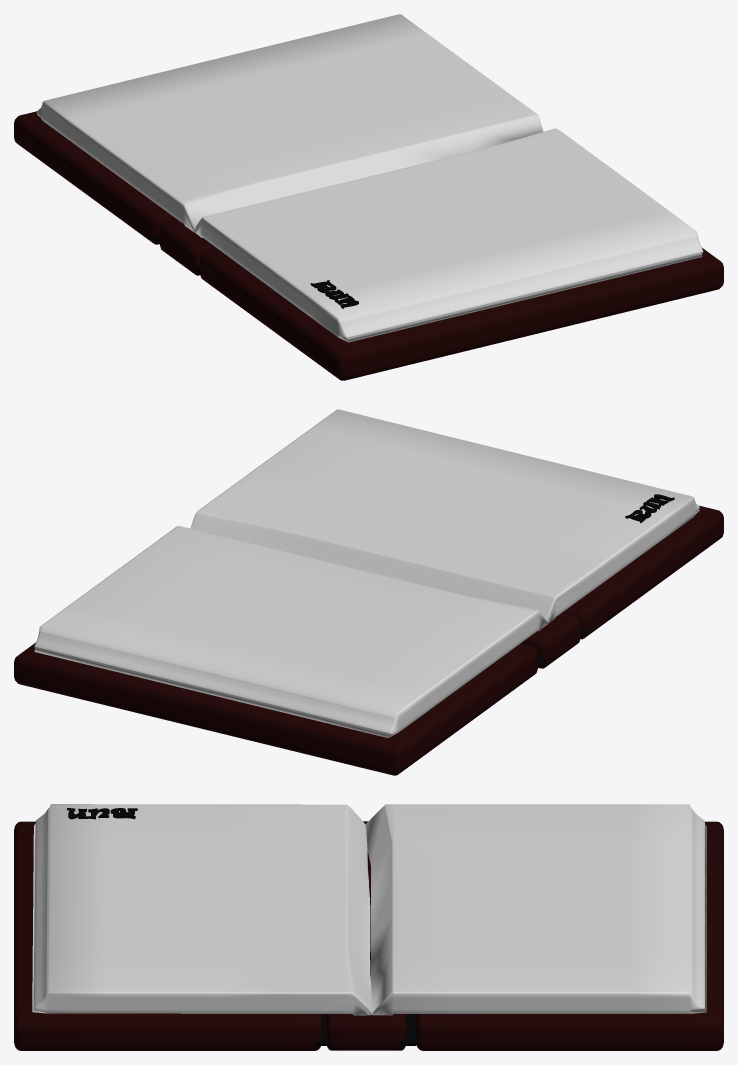
Rendered from book(open).FBX.
The picture shows the model from 3 angles, top to bottom: view 1: azimuth 30°, elevation 25°; view 2: azimuth 150°, elevation 25°; view 3: azimuth 270°, elevation 25°; orthographic projection. The views are drawn at different scales.
Visible parts, largest first — view 1: ChamferBox007, ChamferBox006, ChamferBox002, ChamferBox003, ChamferBox001; view 2: ChamferBox006, ChamferBox007, ChamferBox003, ChamferBox002, ChamferBox001; view 3: ChamferBox006, ChamferBox007, ChamferBox002, ChamferBox003, ChamferBox001, weqewqweqwewqe.
Boxes of the visible parts, x1,y1,x2,y2 form: ChamferBox007: [194, 128, 703, 342]; ChamferBox006: [36, 14, 543, 233]; ChamferBox002: [200, 248, 723, 380]; ChamferBox003: [14, 111, 177, 244]; ChamferBox001: [160, 220, 217, 275]; ChamferBox006: [34, 526, 548, 737]; ChamferBox007: [190, 409, 699, 623]; ChamferBox003: [14, 642, 537, 775]; ChamferBox002: [562, 505, 723, 639]; ChamferBox001: [521, 613, 580, 668]; ChamferBox006: [365, 804, 706, 1015]; ChamferBox007: [32, 804, 373, 1015]; ChamferBox002: [14, 821, 321, 1050]; ChamferBox003: [416, 821, 723, 1050]; ChamferBox001: [326, 821, 406, 1050]; weqewqweqwewqe: [67, 808, 137, 819].
Size of the model in its own units: 28.06 by 3.62 by 41.23.
